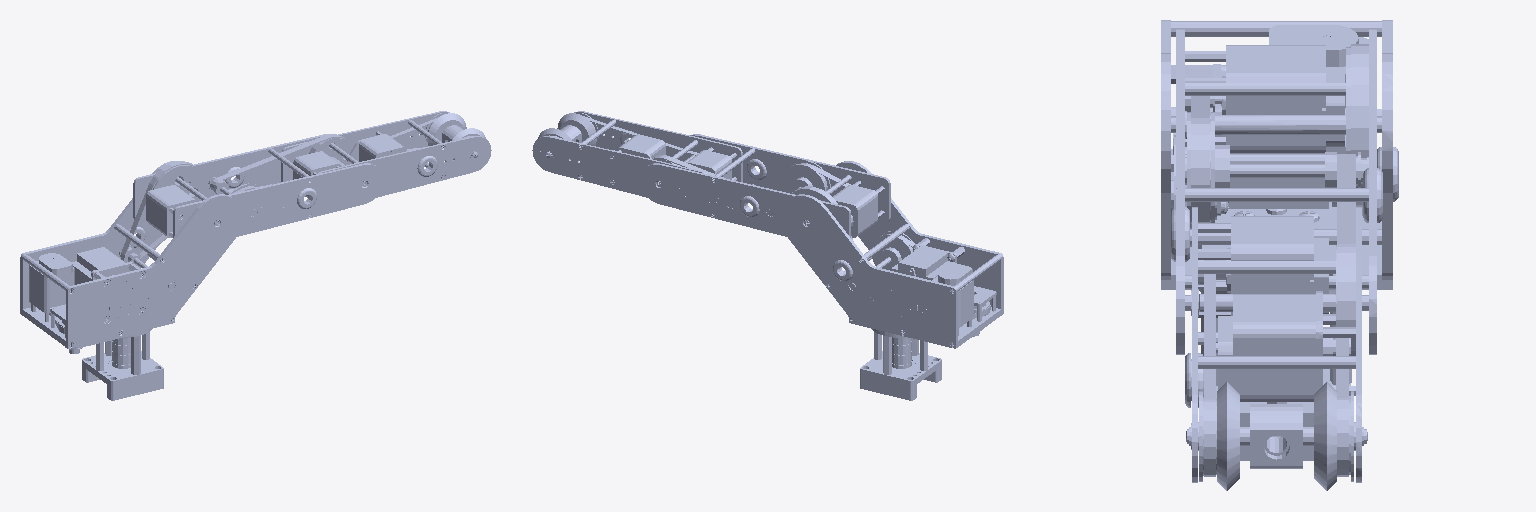
The robot description file, URDF, robot "Dorna_2_Simulation":
<?xml version="1.0" encoding="utf-8" ?>
<!-- This URDF was automatically created by SolidWorks to URDF Exporter! Originally created by [author] ([email redacted]) 
     Commit Version: 1.6.0-1-g15f4949  Build Version: 1.6.7594.29634
     For more information, please see http://wiki.ros.org/sw_urdf_exporter -->
<robot name="Dorna_2_Simulation">
    <link name="base_link">
        
<inertial>
            <origin xyz="-0.033591 -2.3591E-09 0.0453" rpy="0 0 0" />
            <mass value="0.1459" />
            <inertia ixx="0.00023804" ixy="6.3486E-12" ixz="1.2702E-05" iyy="0.0002306" iyz="-6.8648E-12" izz="0.00013538" />
        </inertial>

        <visual>
            <origin xyz="0 0 0" rpy="0 0 0" />
            <geometry>
                <mesh filename="package://Dorna_2_Simulation/meshes/base_link.STL" />
            </geometry>
            <material name="">
                <color rgba="0.79216 0.81961 0.93333 1" />
            </material>
        </visual>
        <collision>
            <origin xyz="0 0 0" rpy="0 0 0" />
            <geometry>
                <mesh filename="package://Dorna_2_Simulation/meshes/base_link_Collision.STL" />
            </geometry>
        </collision>
    </link>
    <link name="link1">
        
<inertial>
            <origin xyz="-0.022037 7.1203E-05 0.1186" rpy="0 0 0" />
            <mass value="0.70203" />
            <inertia ixx="0.0016762" ixy="0.00012689" ixz="-0.00047838" iyy="0.0028093" iyz="-3.1576E-05" izz="0.0029334" />
        </inertial>

        <visual>
            <origin xyz="0 0 0" rpy="0 0 0" />
            <geometry>
                <mesh filename="package://Dorna_2_Simulation/meshes/link1.STL" />
            </geometry>
            <material name="">
                <color rgba="0.79216 0.81961 0.93333 1" />
            </material>
        </visual>
        <collision>
            <origin xyz="0 0 0" rpy="0 0 0" />
            <geometry>
                <mesh filename="package://Dorna_2_Simulation/meshes/link1_Collision.STL" />
            </geometry>
        </collision>
    </link>
    <joint name="joint1" type="revolute">
        <origin xyz="-0.036 0 0.014163" rpy="0 0 0" />
        <parent link="base_link" />
        <child link="link1" />
        <axis xyz="0 0 1" />
        <limit lower="-2.7925" upper="3.1416" effort="10" velocity="10.472" />
    </joint>
    <link name="link2">
        
<inertial>
            <origin xyz="0.033004 -0.045646 1.2537E-06" rpy="0 0 0" />
            <mass value="0.32464" />
            <inertia ixx="0.00048989" ixy="6.9761E-05" ixz="1.9504E-08" iyy="0.0017419" iyz="-1.0012E-08" izz="0.0020909" />
        </inertial>

        <visual>
            <origin xyz="0 0 0" rpy="0 0 0" />
            <geometry>
                <mesh filename="package://Dorna_2_Simulation/meshes/link2.STL" />
            </geometry>
            <material name="">
                <color rgba="0.79216 0.81961 0.93333 1" />
            </material>
        </visual>
        <collision>
            <origin xyz="0 0 0" rpy="0 0 0" />
            <geometry>
                <mesh filename="package://Dorna_2_Simulation/meshes/link2_Collision.STL" />
            </geometry>
        </collision>
    </link>
    <joint name="joint2" type="revolute">
        <origin xyz="0.095476 0.04845 0.1923" rpy="0 0 0" />
        <parent link="link1" />
        <child link="link2" />
        <axis xyz="0 1 0" />
        <limit lower="-3.1415" upper="1.5708" effort="10" velocity="7.854" />
    </joint>
    <link name="link3">
        
<inertial>
            <origin xyz="0.021064 -0.039486 -4.7847E-08" rpy="0 0 0" />
            <mass value="0.27313" />
            <inertia ixx="0.00021713" ixy="2.2442E-05" ixz="3.6407E-08" iyy="0.00085068" iyz="-1.2633E-08" izz="0.00098072" />
        </inertial>

        <visual>
            <origin xyz="0 0 0" rpy="0 0 0" />
            <geometry>
                <mesh filename="package://Dorna_2_Simulation/meshes/link3.STL" />
            </geometry>
            <material name="">
                <color rgba="0.79216 0.81961 0.93333 1" />
            </material>
        </visual>
        <collision>
            <origin xyz="0 0 0" rpy="0 0 0" />
            <geometry>
                <mesh filename="package://Dorna_2_Simulation/meshes/link3_Collision.STL" />
            </geometry>
        </collision>
    </link>
    <joint name="joint3" type="revolute">
        <origin xyz="0.2032 -0.00735 0" rpy="0 0 0" />
        <parent link="link2" />
        <child link="link3" />
        <axis xyz="0 -1 0" />
        <limit lower="-2.4784" upper="2.4784" effort="10" velocity="7.854" />
    </joint>
    <link name="link4">
        
<inertial>
            <origin xyz="-5.9653E-10 -0.0411 1.003E-09" rpy="0 0 0" />
            <mass value="0.076836" />
            <inertia ixx="5.639E-05" ixy="2.2837E-13" ixz="6.7695E-14" iyy="1.719E-05" iyz="1.776E-12" izz="5.5885E-05" />
        </inertial>

        <visual>
            <origin xyz="0 0 0" rpy="0 0 0" />
            <geometry>
                <mesh filename="package://Dorna_2_Simulation/meshes/link4.STL" />
            </geometry>
            <material name="">
                <color rgba="0.79216 0.81961 0.93333 1" />
            </material>
        </visual>
        <collision>
            <origin xyz="0 0 0" rpy="0 0 0" />
            <geometry>
                <mesh filename="package://Dorna_2_Simulation/meshes/link4_Collision.STL" />
            </geometry>
        </collision>
    </link>
    <joint name="joint4" type="revolute">
        <origin xyz="0.1524 0 0" rpy="0 0 0" />
        <parent link="link3" />
        <child link="link4" />
        <axis xyz="0 -1 0" />
        <limit lower="-2.3562" upper="2.3562" effort="10" velocity="34.907" />
    </joint>
    <link name="link5">
        
<inertial>
            <origin xyz="0.019873 -6.4374E-06 -0.039605" rpy="0 0 0" />
            <mass value="0.41658" />
            <inertia ixx="0.00014403" ixy="1.1578E-09" ixz="6.5087E-06" iyy="0.00014394" iyz="2.8154E-10" izz="0.00012184" />
        </inertial>

        <visual>
            <origin xyz="0 0 0" rpy="0 0 0" />
            <geometry>
                <mesh filename="package://Dorna_2_Simulation/meshes/link5.STL" />
            </geometry>
            <material name="">
                <color rgba="0.79216 0.81961 0.93333 1" />
            </material>
        </visual>
        <collision>
            <origin xyz="0 0 0" rpy="0 0 0" />
            <geometry>
                <mesh filename="package://Dorna_2_Simulation/meshes/link5_Collision.STL" />
            </geometry>
        </collision>
    </link>
    <joint name="joint5" type="revolute">
        <origin xyz="0.048937 -0.0411 0" rpy="0 0 0" />
        <parent link="link4" />
        <child link="link5" />
        <axis xyz="-1 0 0" />
        <limit lower="-6.2832" upper="6.2832" effort="10" velocity="34.907" />
    </joint>
    
<transmission name="trans_joint1">
        <type>transmission_interface/SimpleTransmission</type>
        <joint name="joint1">
            <hardwareInterface>hardware_interface/EffortJointInterface</hardwareInterface>
        </joint>
        <actuator name="joint1_motor">
            <hardwareInterface>hardware_interface/EffortJointInterface</hardwareInterface>
            <mechanicalReduction>1</mechanicalReduction>
        </actuator>
    </transmission>
    <transmission name="trans_joint2">
        <type>transmission_interface/SimpleTransmission</type>
        <joint name="joint2">
            <hardwareInterface>hardware_interface/EffortJointInterface</hardwareInterface>
        </joint>
        <actuator name="joint2_motor">
            <hardwareInterface>hardware_interface/EffortJointInterface</hardwareInterface>
            <mechanicalReduction>1</mechanicalReduction>
        </actuator>
    </transmission>
    <transmission name="trans_joint3">
        <type>transmission_interface/SimpleTransmission</type>
        <joint name="joint3">
            <hardwareInterface>hardware_interface/EffortJointInterface</hardwareInterface>
        </joint>
        <actuator name="joint3_motor">
            <hardwareInterface>hardware_interface/EffortJointInterface</hardwareInterface>
            <mechanicalReduction>1</mechanicalReduction>
        </actuator>
    </transmission>
    <transmission name="trans_joint4">
        <type>transmission_interface/SimpleTransmission</type>
        <joint name="joint4">
            <hardwareInterface>hardware_interface/EffortJointInterface</hardwareInterface>
        </joint>
        <actuator name="joint4_motor">
            <hardwareInterface>hardware_interface/EffortJointInterface</hardwareInterface>
            <mechanicalReduction>1</mechanicalReduction>
        </actuator>
    </transmission>
    <transmission name="trans_joint5">
        <type>transmission_interface/SimpleTransmission</type>
        <joint name="joint5">
            <hardwareInterface>hardware_interface/EffortJointInterface</hardwareInterface>
        </joint>
        <actuator name="joint5_motor">
            <hardwareInterface>hardware_interface/EffortJointInterface</hardwareInterface>
            <mechanicalReduction>1</mechanicalReduction>
        </actuator>
    </transmission>
    <gazebo>
        <plugin name="gazebo_ros_control" filename="libgazebo_ros_control.so">
            <robotNamespace>/</robotNamespace>
        </plugin>
    </gazebo>
</robot>

--- Render facts (derived) ---
The picture shows the robot from 3 angles, left to right: view 1: azimuth 30°, elevation 25°; view 2: azimuth 150°, elevation 25°; view 3: azimuth 270°, elevation 25°; orthographic projection.
Robot: Dorna_2_Simulation — 6 links, 5 joints (5 revolute); root link base_link; default pose: every joint at zero.
Visible links, largest first — view 1: link1, link2, link3, base_link, link4; view 2: link1, link2, link3, base_link, link4; view 3: link2, link3, link1, link4, base_link.
Link boxes in pixels (bbox=[...]): link1: bbox=[20, 161, 242, 368]; link2: bbox=[133, 134, 383, 237]; link3: bbox=[281, 111, 491, 197]; base_link: bbox=[82, 328, 163, 400]; link4: bbox=[425, 113, 486, 159]; link1: bbox=[781, 161, 1003, 368]; link2: bbox=[640, 134, 890, 237]; link3: bbox=[532, 111, 742, 197]; base_link: bbox=[860, 328, 941, 400]; link4: bbox=[538, 113, 598, 159]; link2: bbox=[1171, 29, 1382, 355]; link3: bbox=[1185, 207, 1368, 482]; link1: bbox=[1161, 20, 1398, 293]; link4: bbox=[1186, 382, 1367, 490]; base_link: bbox=[1200, 291, 1351, 460].
Size in the robot's own frame: 0.5835 by 0.1147 by 0.2455 metres.
Meshes: 6 distinct files referenced, 5 mesh visuals loaded (5 binary STL); not drawn: 1 (reference not matched to a file when rendering).